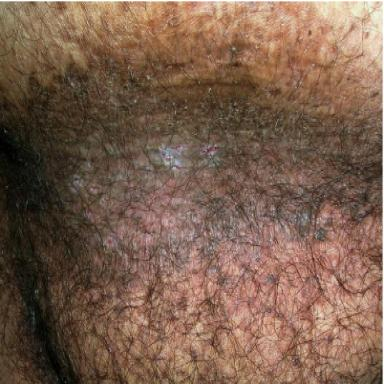Darier_s-Disease: (21, 47, 384, 311)
